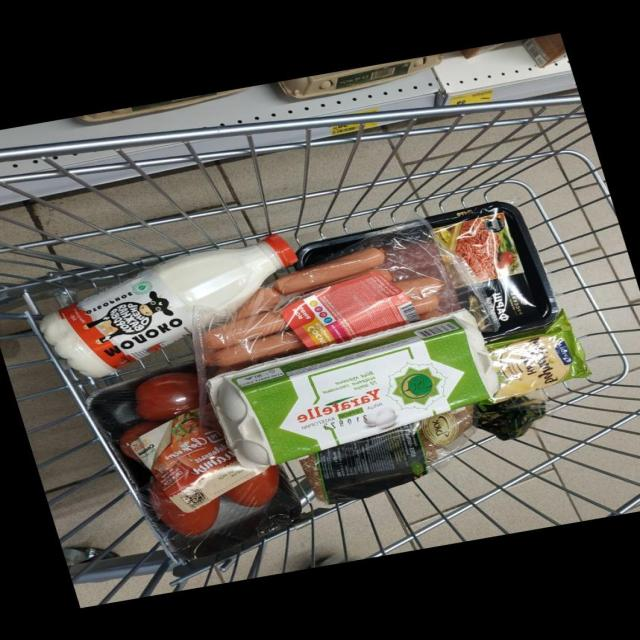Bread: (301, 395, 544, 503)
Cheese: (485, 310, 591, 402)
Eggs: (207, 309, 498, 466)
Meat: (426, 200, 558, 338), (295, 229, 375, 269)
Milk: (40, 233, 297, 376)
Sausages: (193, 219, 497, 382)
Tomatoes: (149, 480, 220, 535), (134, 371, 199, 421), (225, 465, 279, 507), (119, 421, 159, 459)
